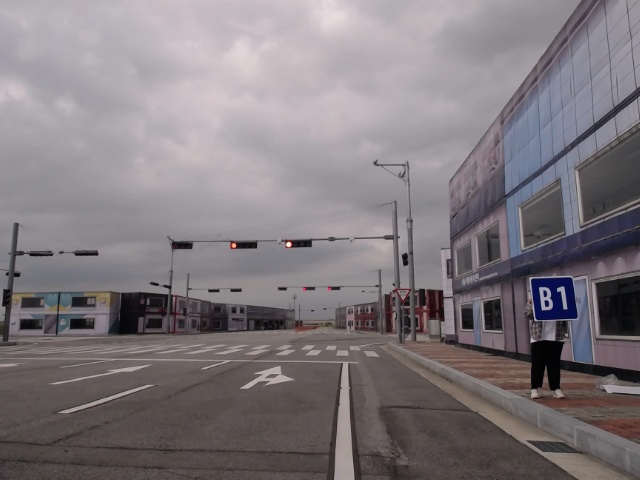delivery_b1: (530, 276, 579, 321)
red_4: (230, 241, 258, 249), (285, 240, 313, 248), (303, 287, 316, 291), (328, 286, 340, 290)
